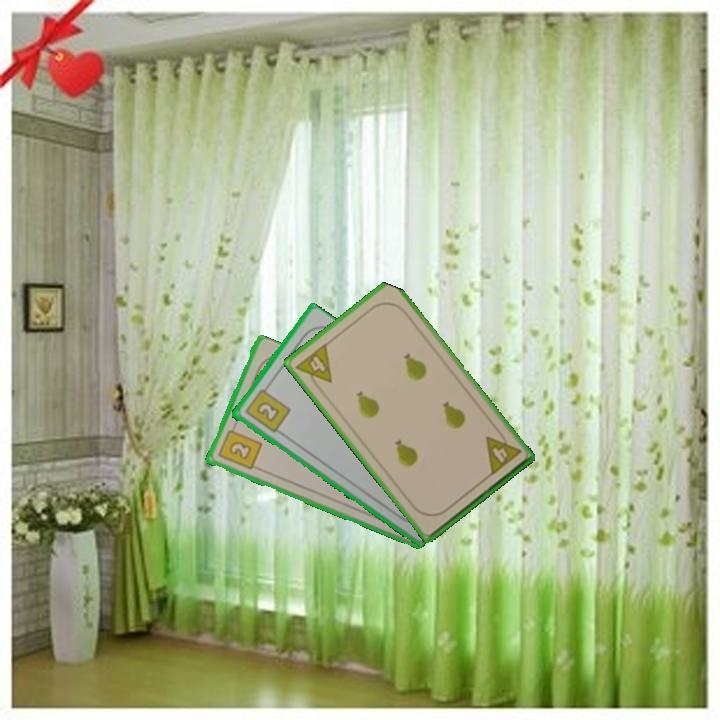2b: (241, 382, 293, 436), (214, 422, 264, 473)
4p: (292, 339, 335, 394), (482, 426, 524, 478)
